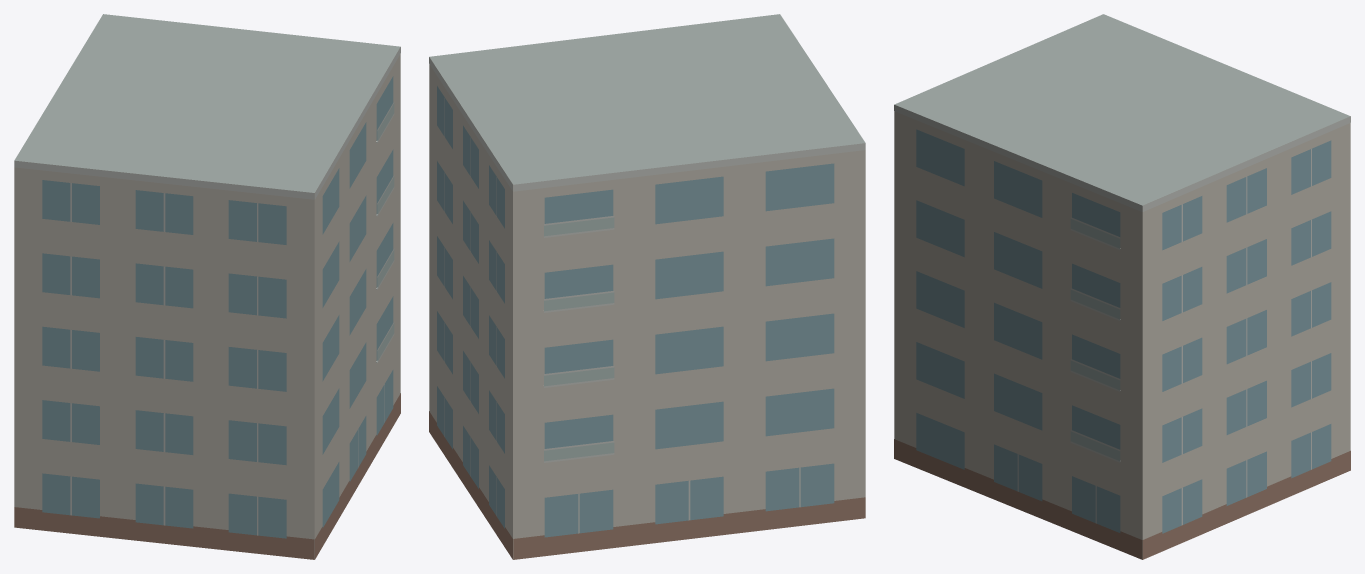
File: survey-upis-32883894.glb
The picture shows the model from 3 angles, left to right: view 1: azimuth 30°, elevation 25°; view 2: azimuth 150°, elevation 25°; view 3: azimuth 270°, elevation 25°; orthographic projection. The views are drawn at different scales.
Visible parts, largest first — view 1: survey-upis-32883894.tmp; view 2: survey-upis-32883894.tmp; view 3: survey-upis-32883894.tmp.
Boxes of the visible parts, left/top/right/bottom form: survey-upis-32883894.tmp: left=14, top=14, right=400, bottom=559; survey-upis-32883894.tmp: left=429, top=14, right=865, bottom=559; survey-upis-32883894.tmp: left=894, top=14, right=1350, bottom=559.
Bounding box in the file's own units: 15.32 × 13.2 × 15.42.
